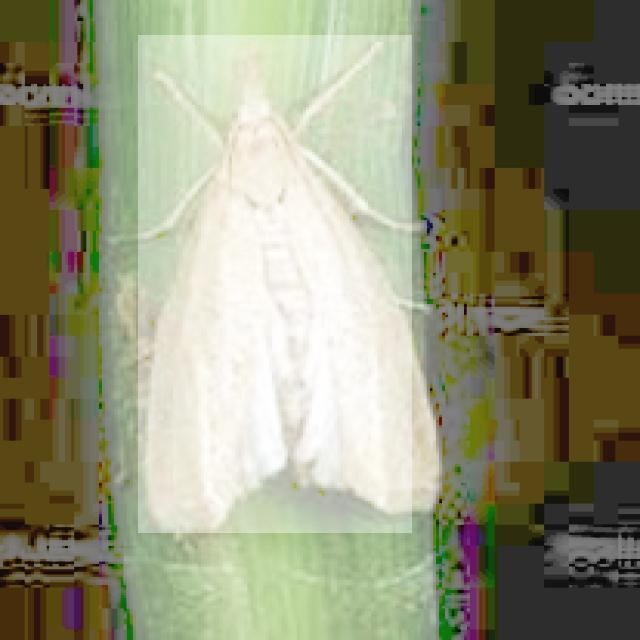stem-borer: (138, 35, 412, 533)
